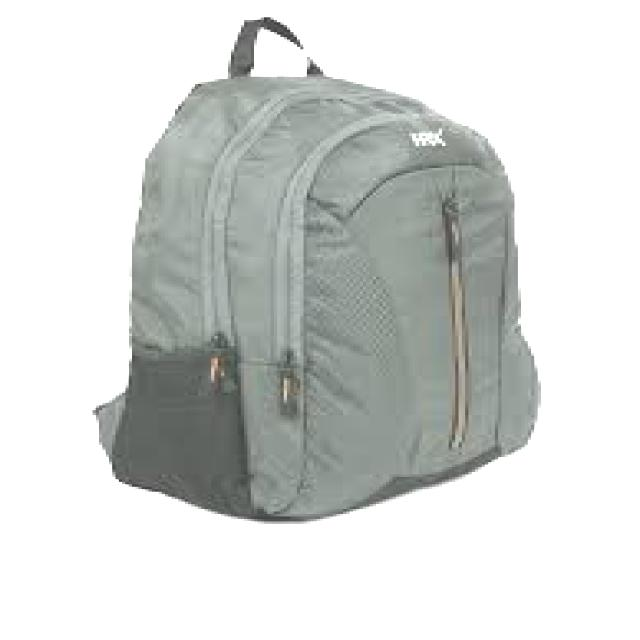backpack: (90, 16, 542, 522)
